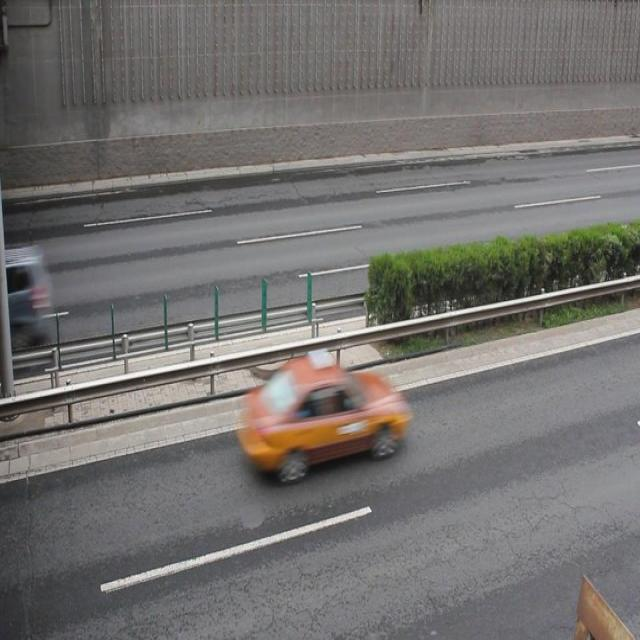car: (238, 350, 409, 481), (0, 241, 52, 350)
